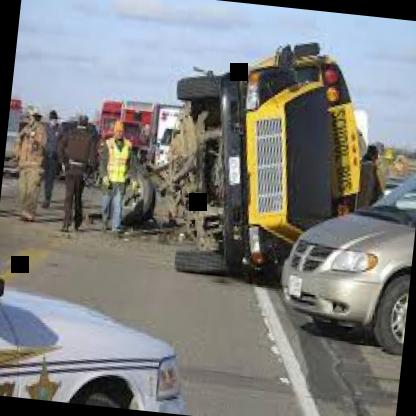accident: (147, 29, 416, 345)
